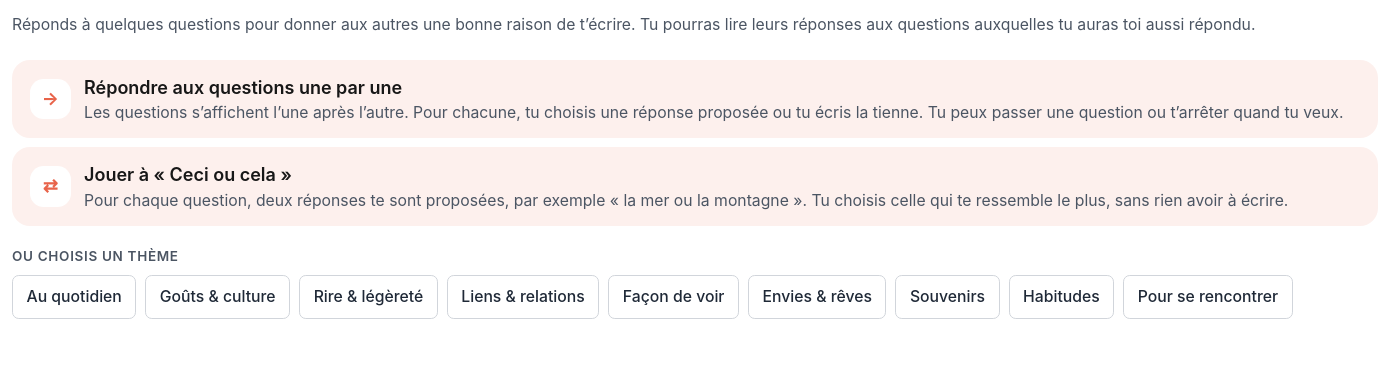
Scenario: <ProfileAnswers /> › ouvre « une par une » sur un thème, avec « Passer cette question »
Les parcours s'ouvrent une fois mes réponses chargées.
Click the button "Rire & légèreté": (368, 297) [299,275,438,319]
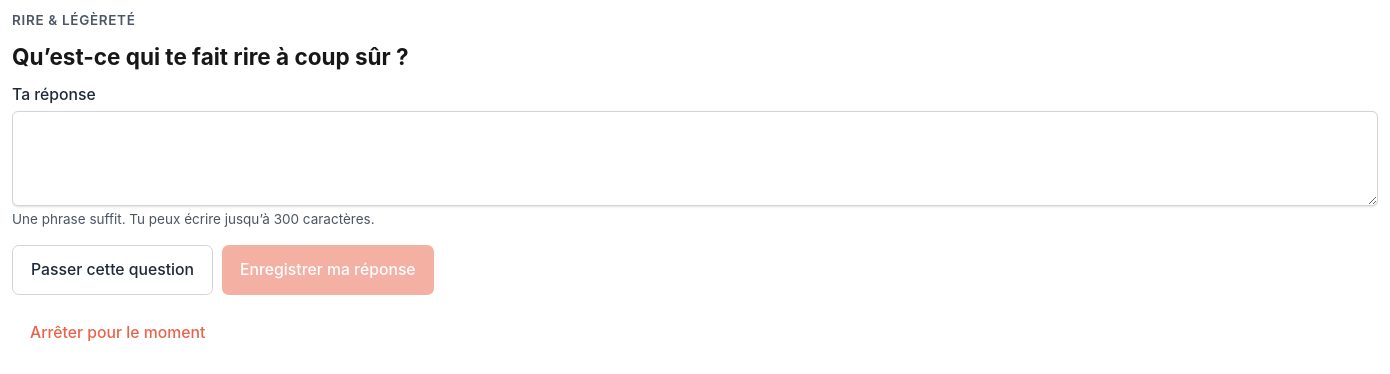
expect the text "Rire & légèreté" is shown: met, box [12,12,136,28]
expect the heading shows "Qu’est-ce qui te fait rire à coup sûr": met, box [12,44,409,70]
Click the button "Passer cette question": (113, 270) [12,245,213,294]
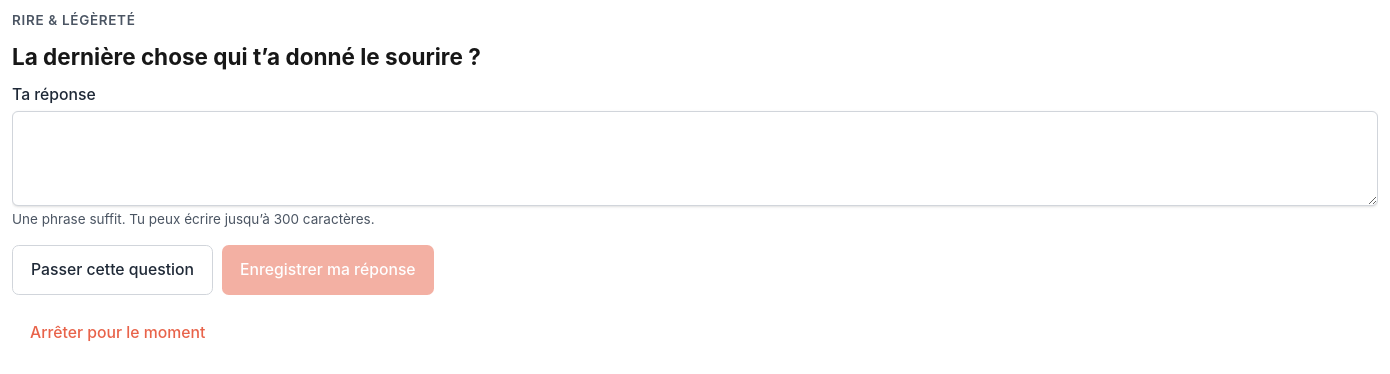
expect the heading no longer shows "Qu’est-ce qui te fait rire à coup sûr": met, box [12,44,481,70]
Click the button "Arrêter pour le moment": (118, 333) [12,308,223,358]
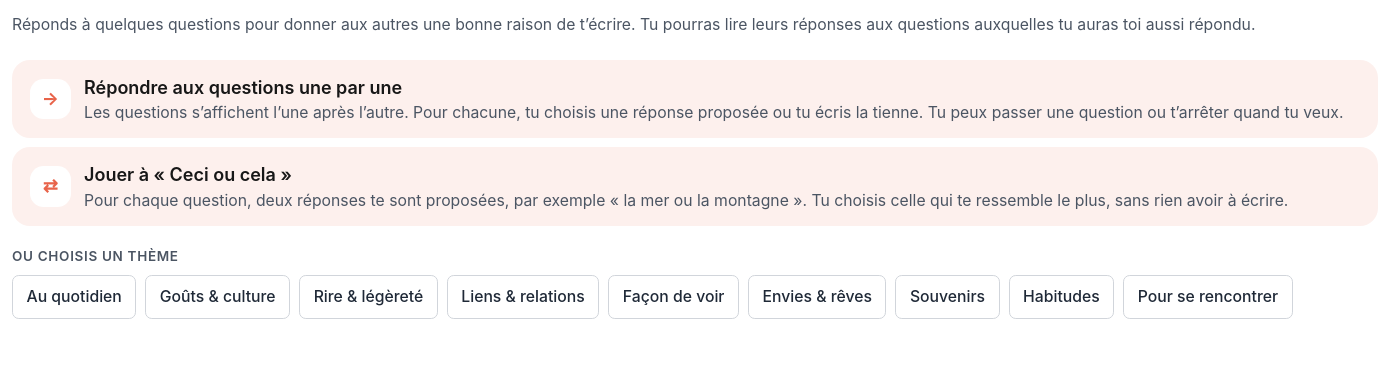
expect the button "Jouer à « Ceci ou cela »" is shown: met, box [12,147,1378,226]
